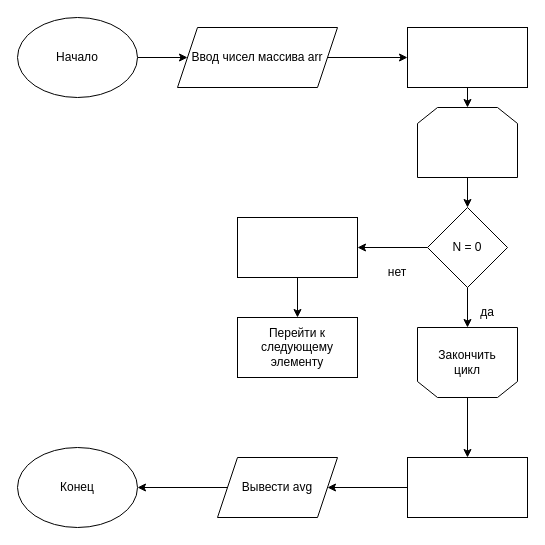
Image size: 545x545. Some labels were removed from this diagram. The shapes that lost their labels are listed below. From the top down, each one's centre as x and y in pixels, then its label:
At (467,57): "sum = 0, n = кол во цифр в массиве".
At (467,142): "Начать цикл".
At (297,247): "Добавить число к sum".
At (467,487): "avg = sum/n".
